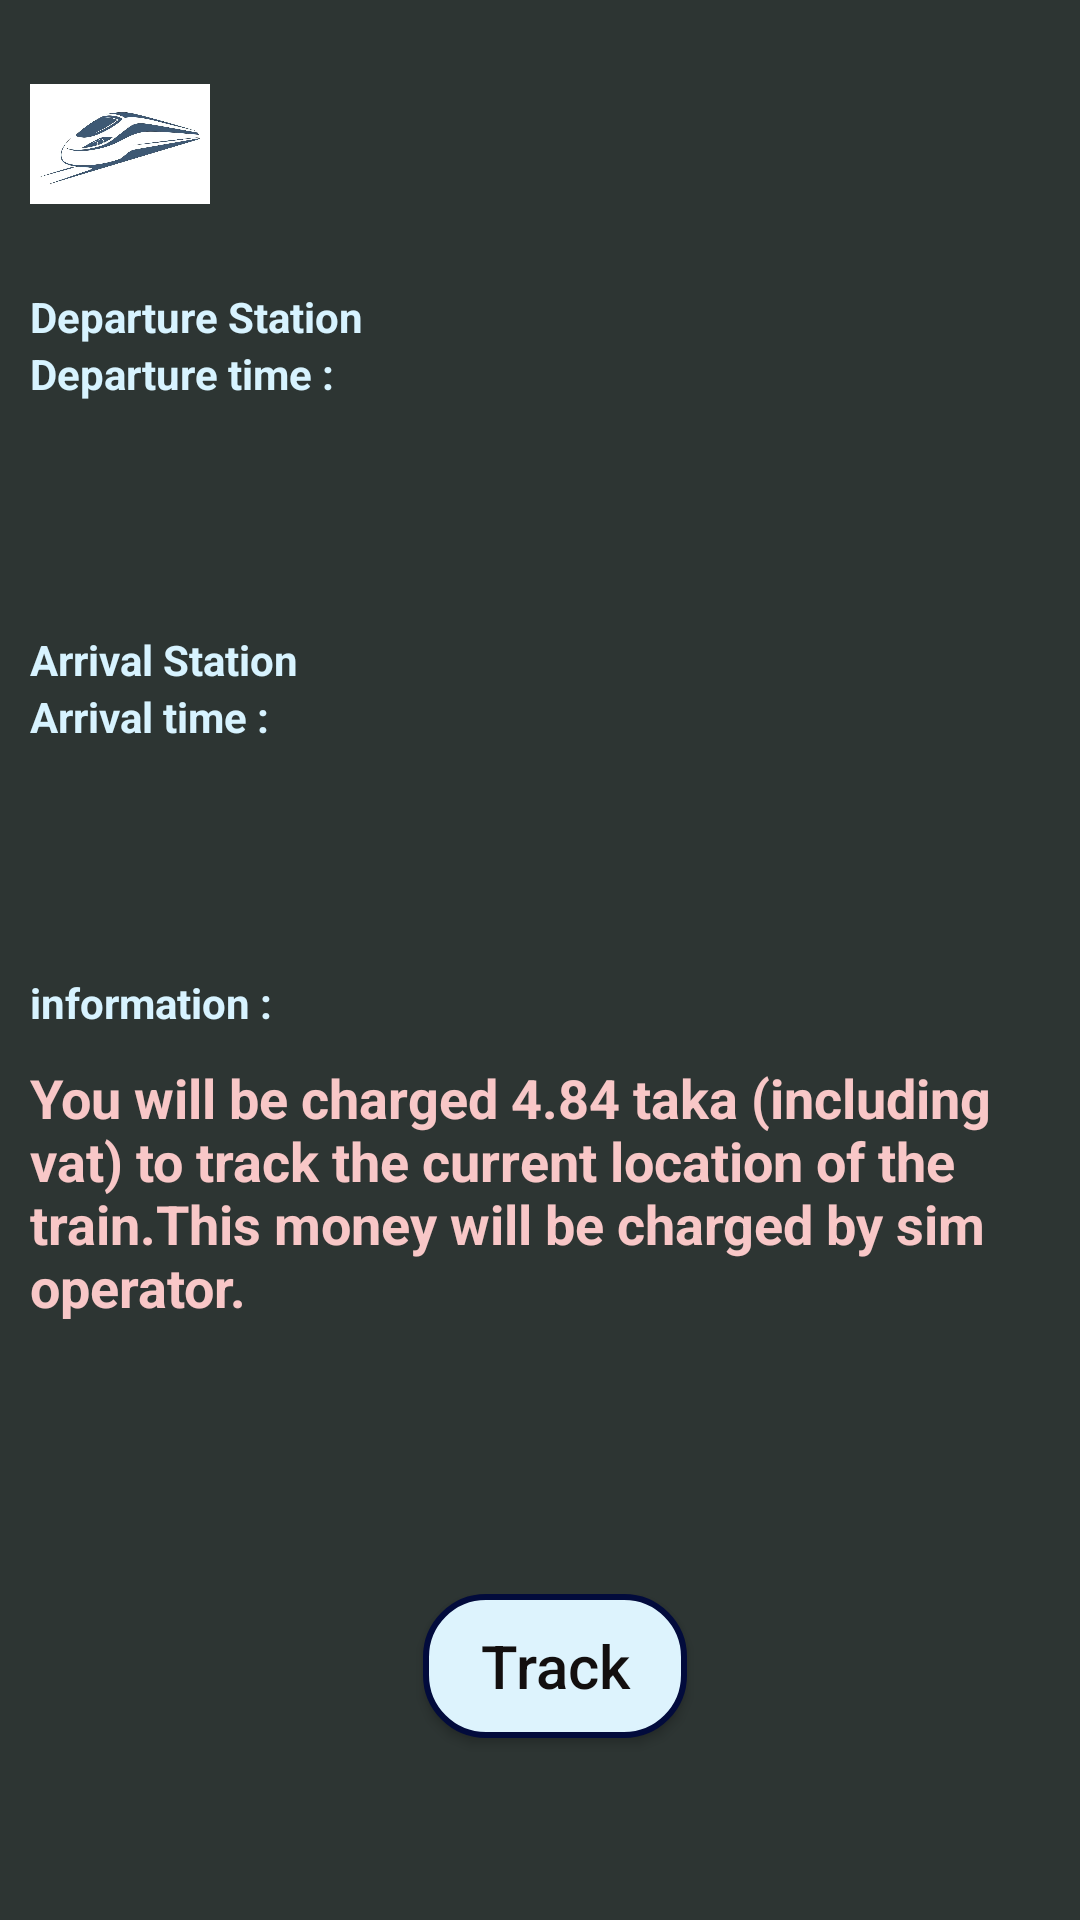

Icon bounding boxes for this 1080 x 1920 phone screenshot, format (x1, y1, x2, y2):
trainicon: (30, 84, 210, 204)
